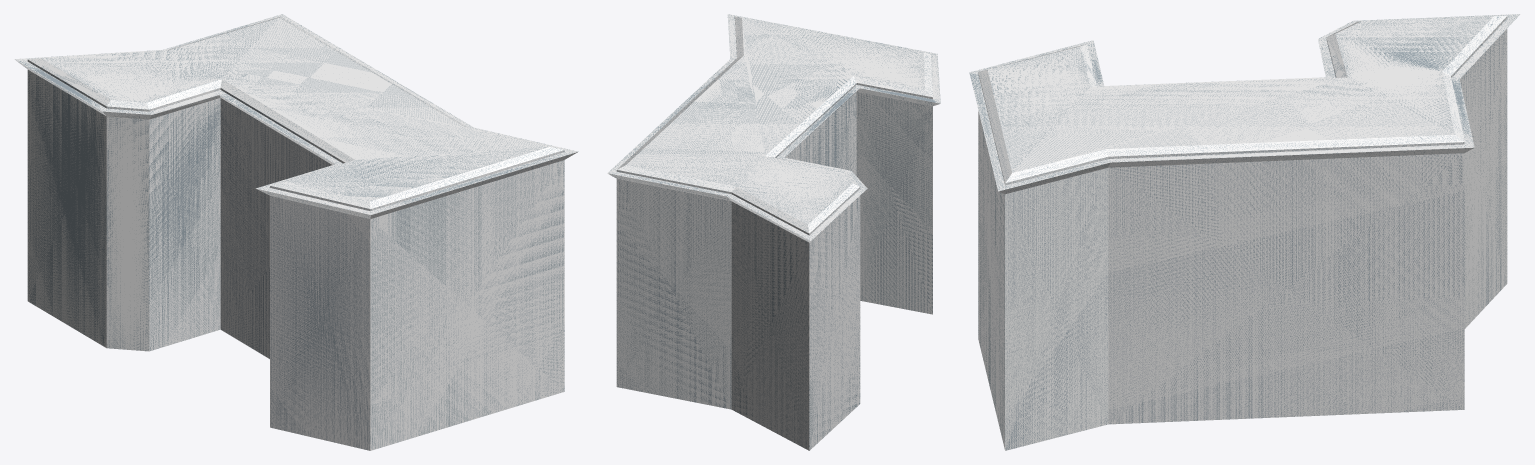
File: library.fbx
3 views of the same model, side by side, from view 1: azimuth 30°, elevation 25°; view 2: azimuth 150°, elevation 25°; view 3: azimuth 270°, elevation 25° (orthographic). The views are drawn at different scales.
Parts seen in each view (by area): view 1: Model; view 2: Model; view 3: Model.
Part boxes in pixels (x1=…): Model: x1=14, y1=14, x2=578, y2=450; Model: x1=607, y1=14, x2=940, y2=450; Model: x1=969, y1=14, x2=1520, y2=450.
Size of the model in its own units: 81.35 by 58.05 by 107.
